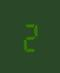two: (19, 20, 39, 52)
